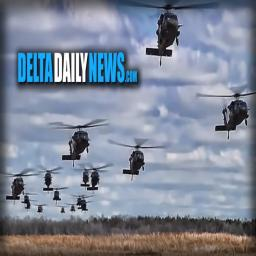helicopter: (129, 2, 214, 64), (194, 87, 256, 136), (111, 139, 166, 180), (51, 123, 103, 165), (4, 173, 31, 204), (43, 167, 58, 195), (80, 167, 91, 192), (25, 194, 39, 213), (94, 168, 104, 193), (34, 205, 49, 219), (53, 187, 66, 203), (82, 199, 94, 215), (78, 195, 87, 208), (70, 201, 79, 214), (62, 205, 66, 216)
